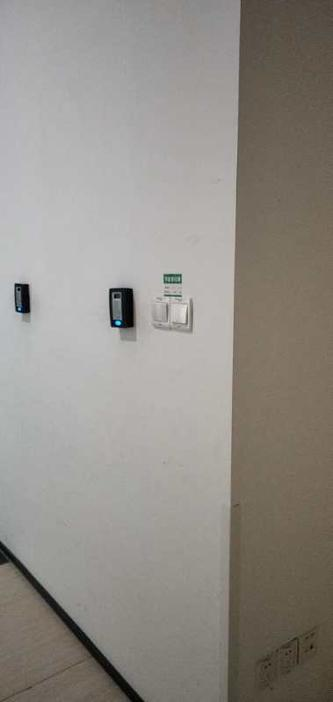switch: (169, 302, 195, 338), (149, 304, 168, 325)
